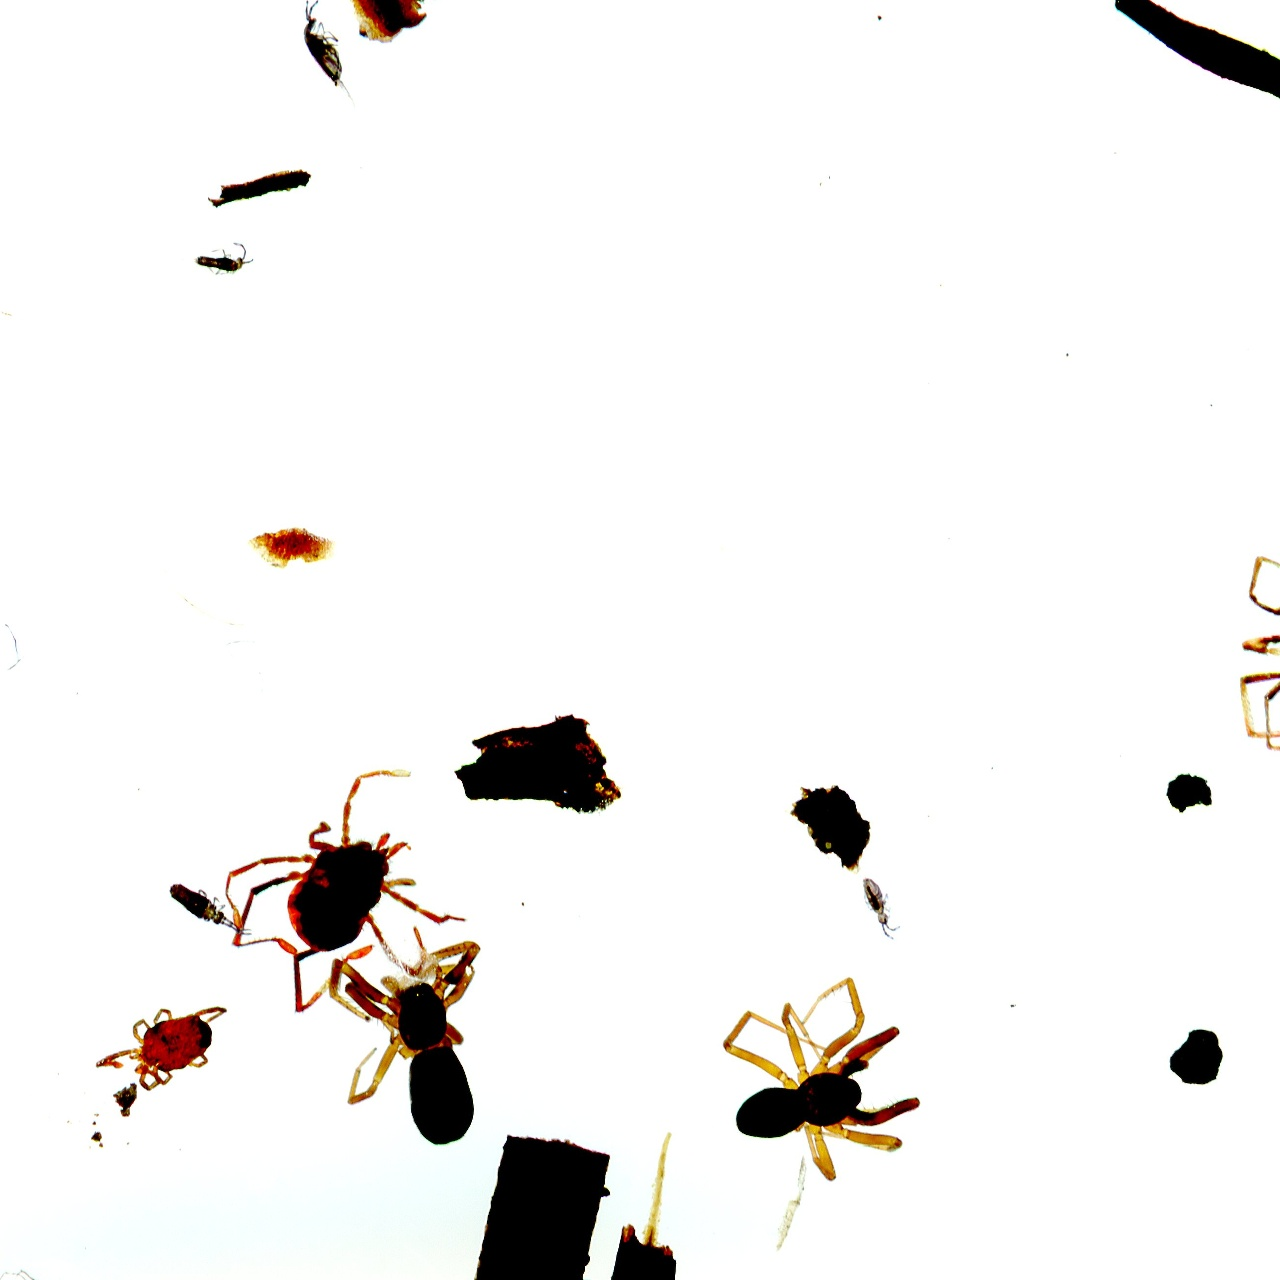arthropod: (169, 741, 519, 1074), (714, 971, 931, 1194), (318, 933, 492, 1152), (79, 968, 256, 1122), (275, 0, 392, 138), (1226, 544, 1280, 764), (159, 869, 266, 946), (147, 229, 268, 291), (845, 865, 920, 955)
